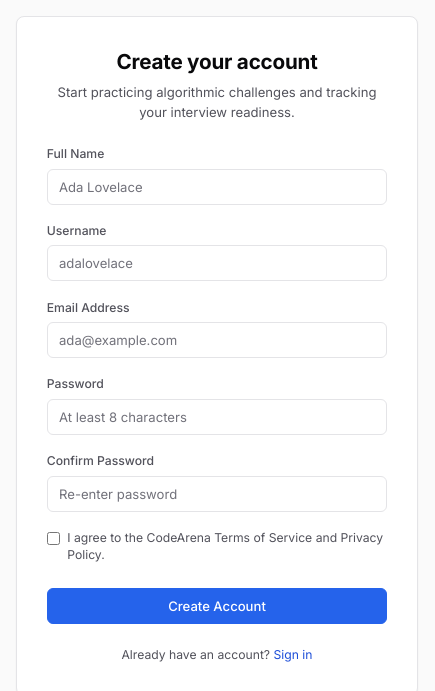
Full Page Test Suites › renders RegisterPage and checks required validation fields
Expected: the heading "Create your account" is shown, [116,49,318,74]
Click the button "Create Account" at (217, 606), box [47,588,387,624]
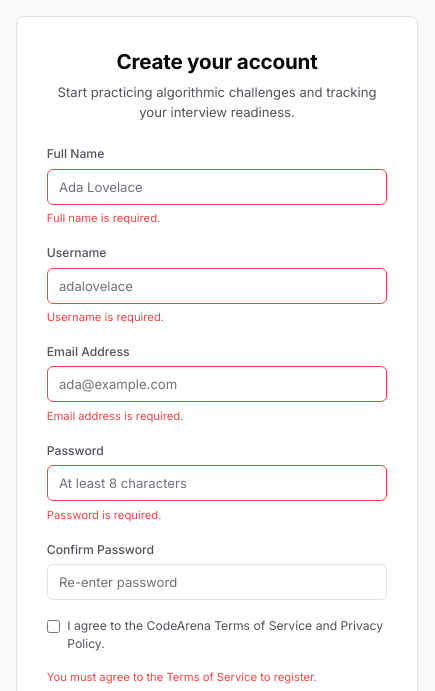
Result: the text "Full name is required." is shown at [47,211,160,225]
